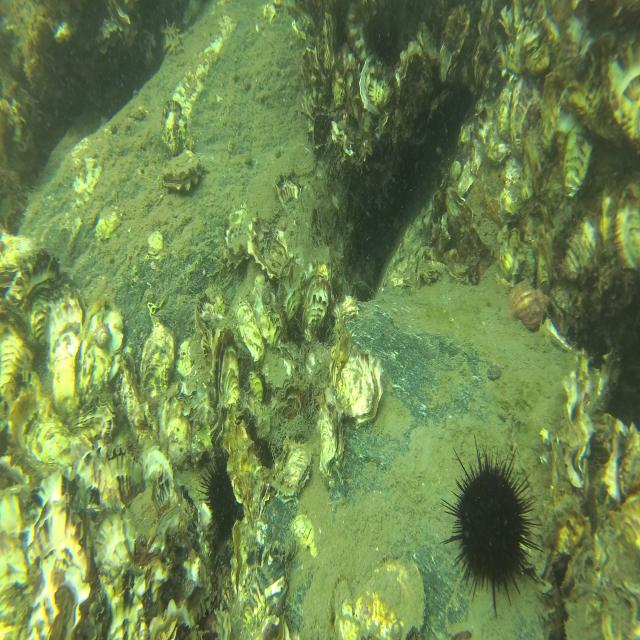echinus: (442, 434, 542, 615), (200, 449, 243, 534), (364, 12, 399, 68)
holothurian: (159, 21, 183, 56)
